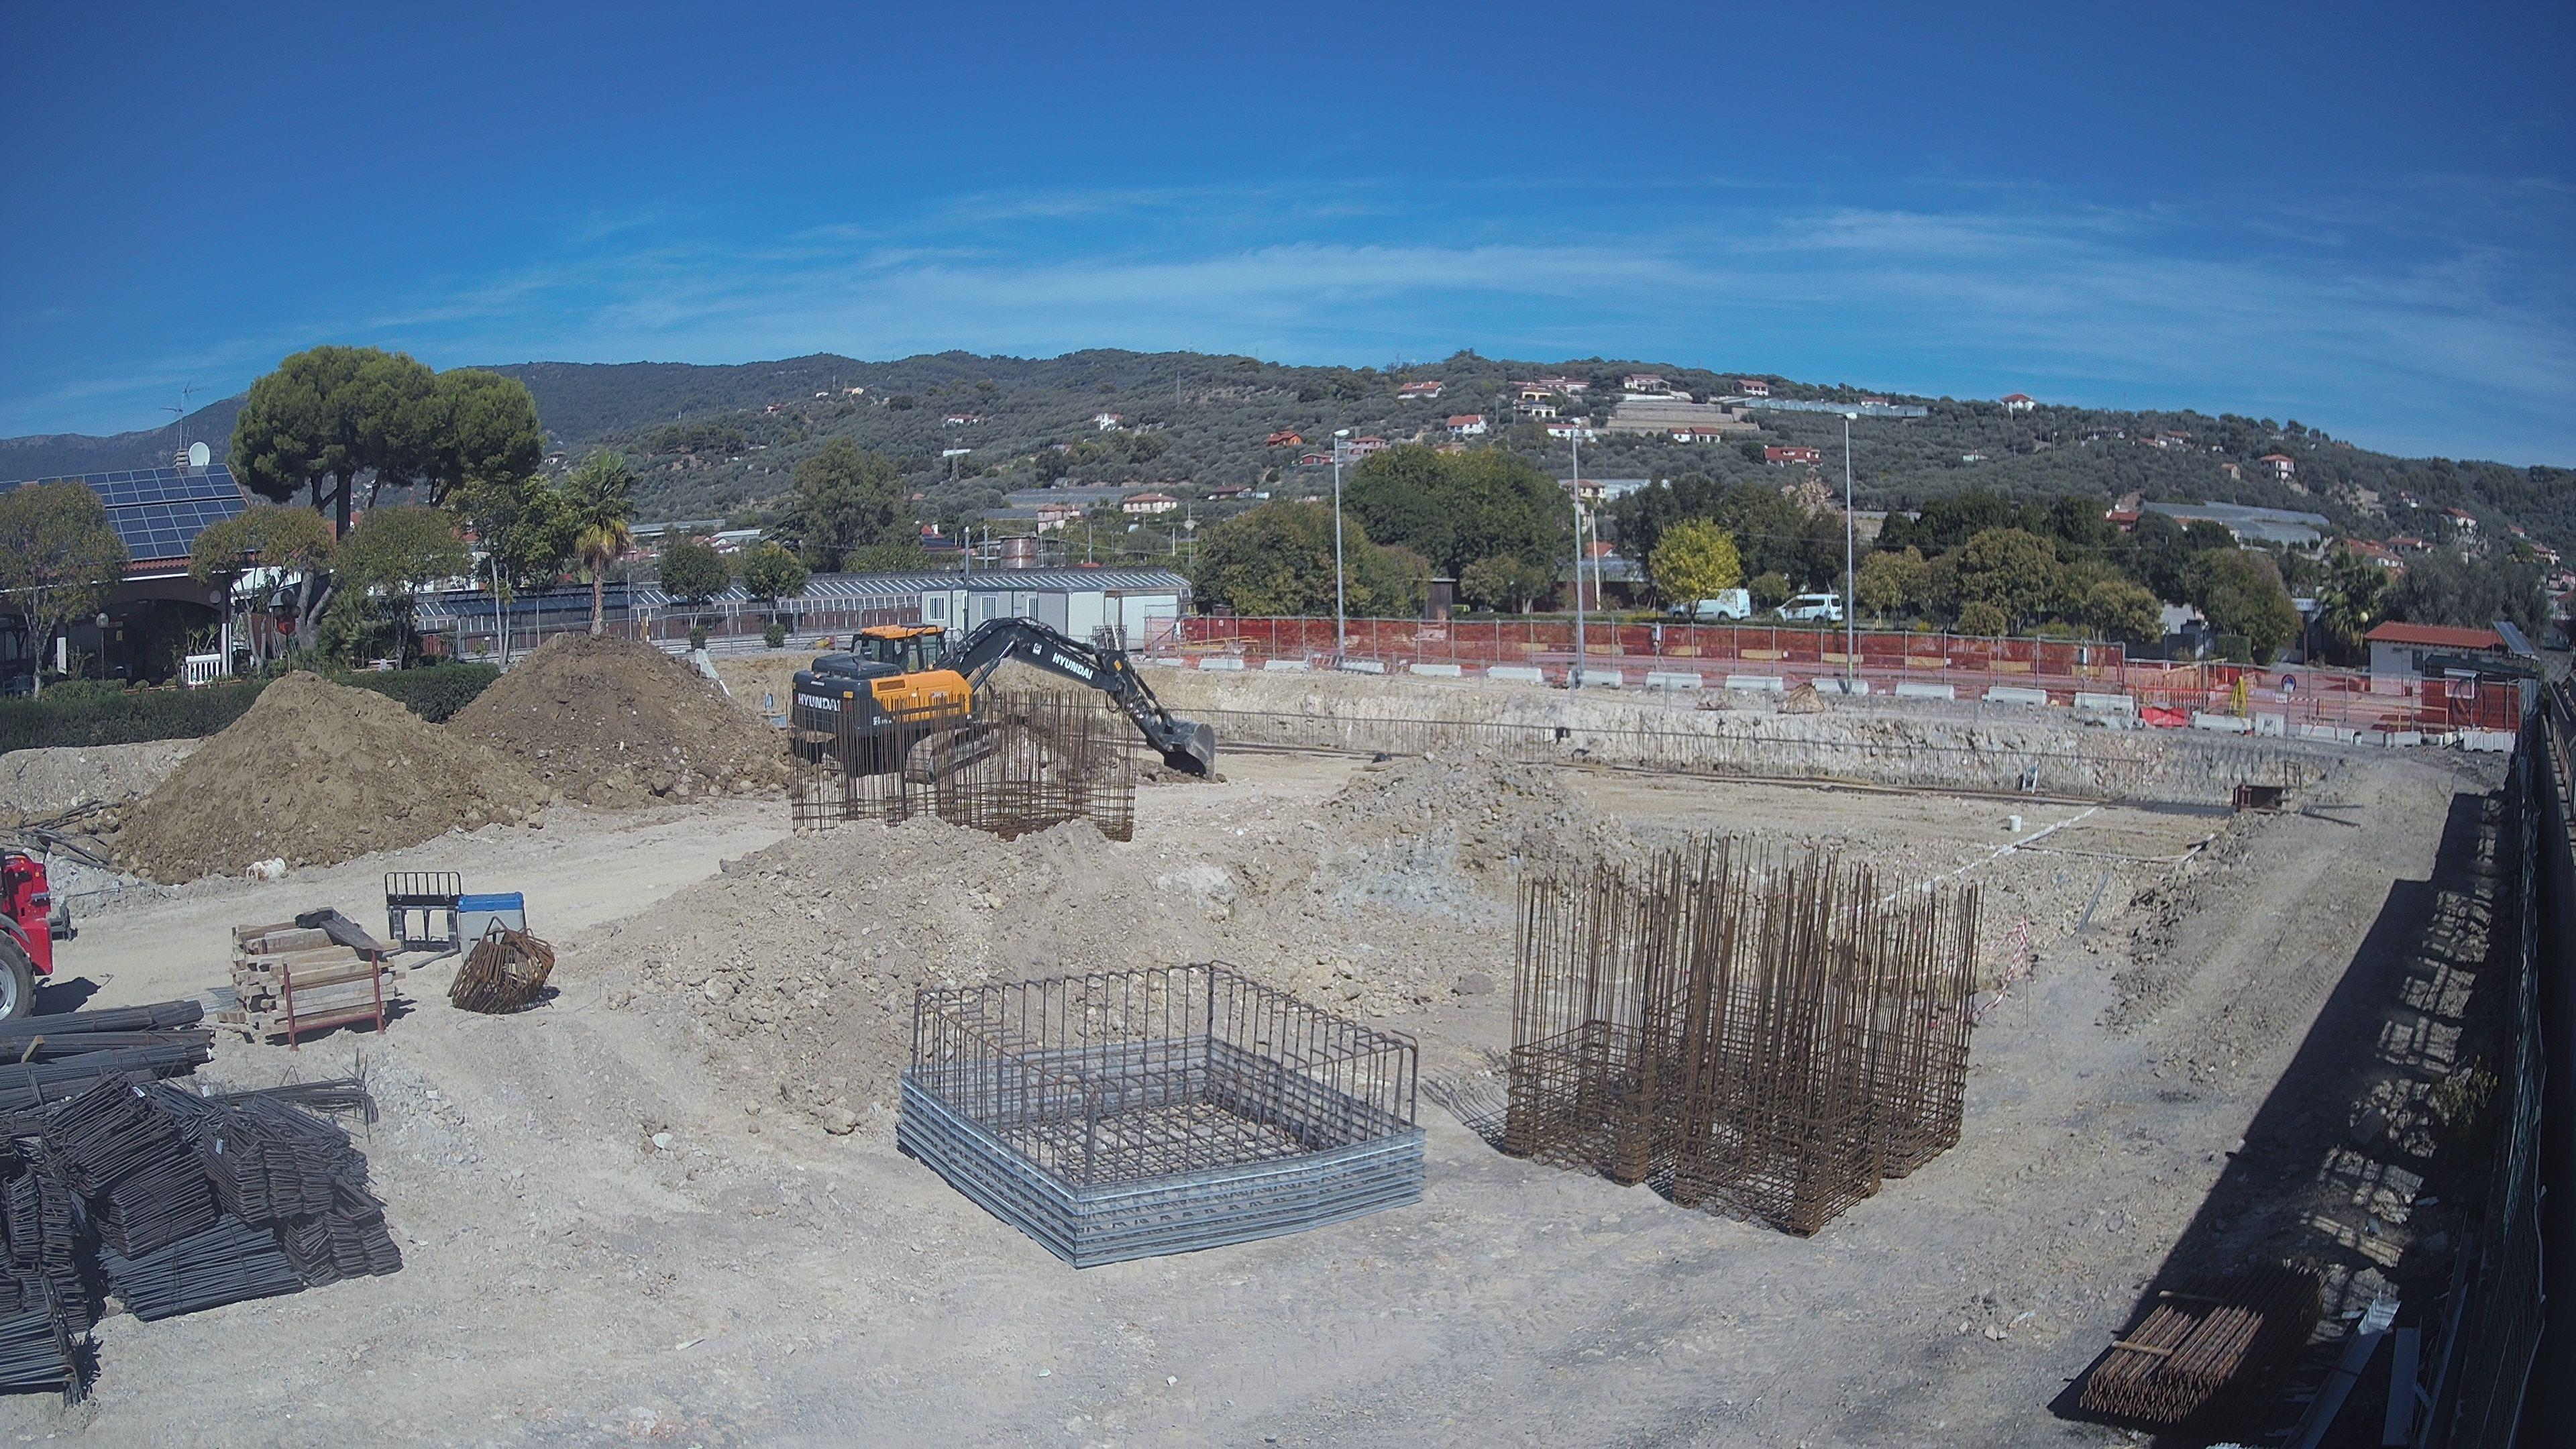Cars: (1667, 589, 1752, 623), (1764, 593, 1844, 626)
excavator: (784, 616, 1215, 786)
